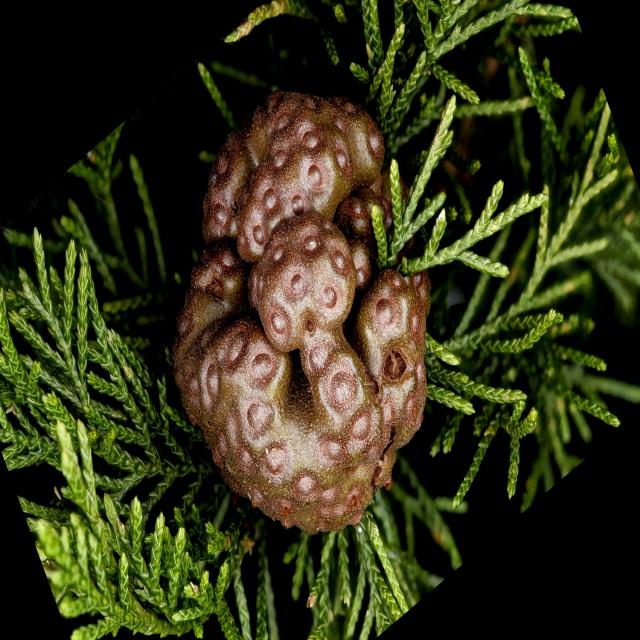Gymnosporangium_Rusts: (171, 88, 432, 535)
